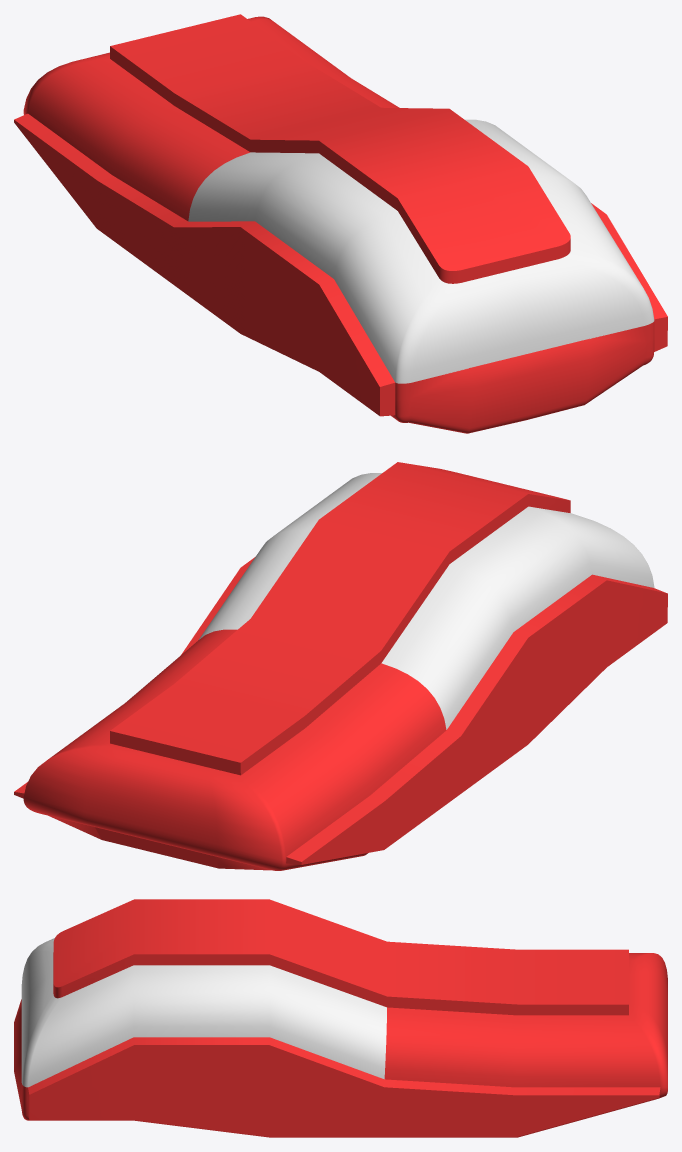
The model's file is Craft.fbx.
The picture shows the model from 3 angles, top to bottom: view 1: azimuth 30°, elevation 25°; view 2: azimuth 150°, elevation 25°; view 3: azimuth 270°, elevation 25°; orthographic projection. The views are drawn at different scales.
Visible parts, largest first — view 1: Box001, Car_Glass; view 2: Box001, Car_Glass; view 3: Box001, Car_Glass.
Boxes of the visible parts, bbox=[...] form: Box001: bbox=[14, 14, 667, 433]; Car_Glass: bbox=[188, 119, 654, 383]; Box001: bbox=[14, 462, 667, 870]; Car_Glass: bbox=[199, 473, 654, 729]; Box001: bbox=[14, 899, 667, 1137]; Car_Glass: bbox=[21, 938, 386, 1087].
Size of the model in its own units: 100 by 70.69 by 229.
